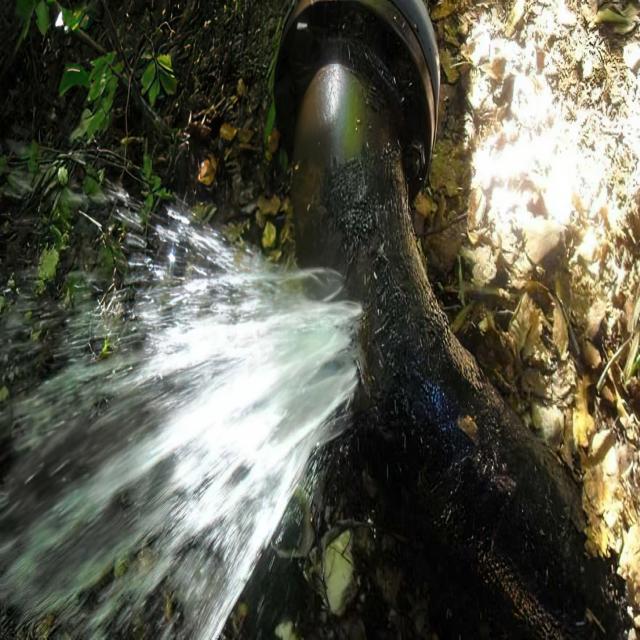leak: (0, 211, 361, 638)
